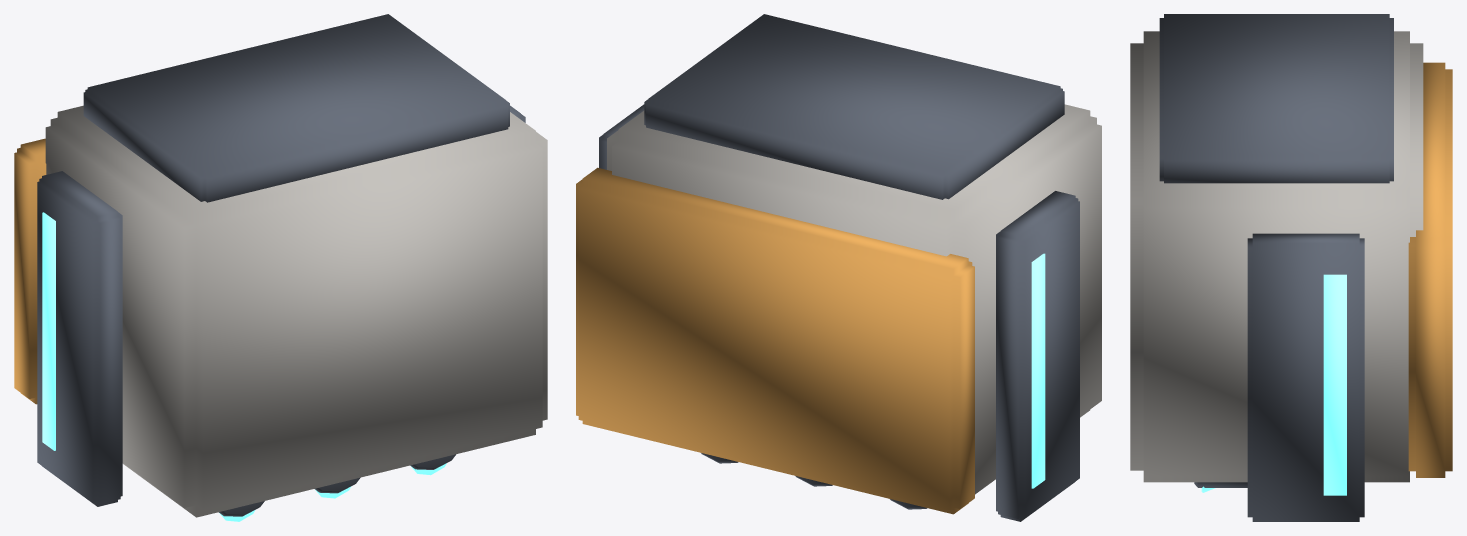
The model's file is swarm_pod.glb.
3 views of the same model, side by side, from view 1: azimuth 30°, elevation 25°; view 2: azimuth 150°, elevation 25°; view 3: azimuth 270°, elevation 25° (orthographic). The views are drawn at different scales.
Visible parts, largest first — view 1: swarm_pod; view 2: swarm_pod; view 3: swarm_pod.
Part boxes in pixels (box(x1,y1,x2,y2)): swarm_pod: box(14, 14, 547, 521); swarm_pod: box(576, 14, 1101, 521); swarm_pod: box(1130, 14, 1452, 521).
Bounding box in the file's own units: 0.66 × 0.5453 × 0.44.
